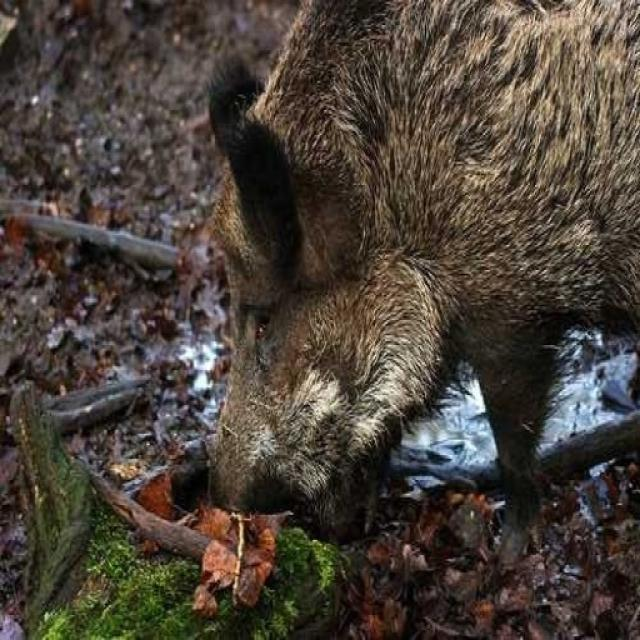pig: (143, 0, 640, 551)
